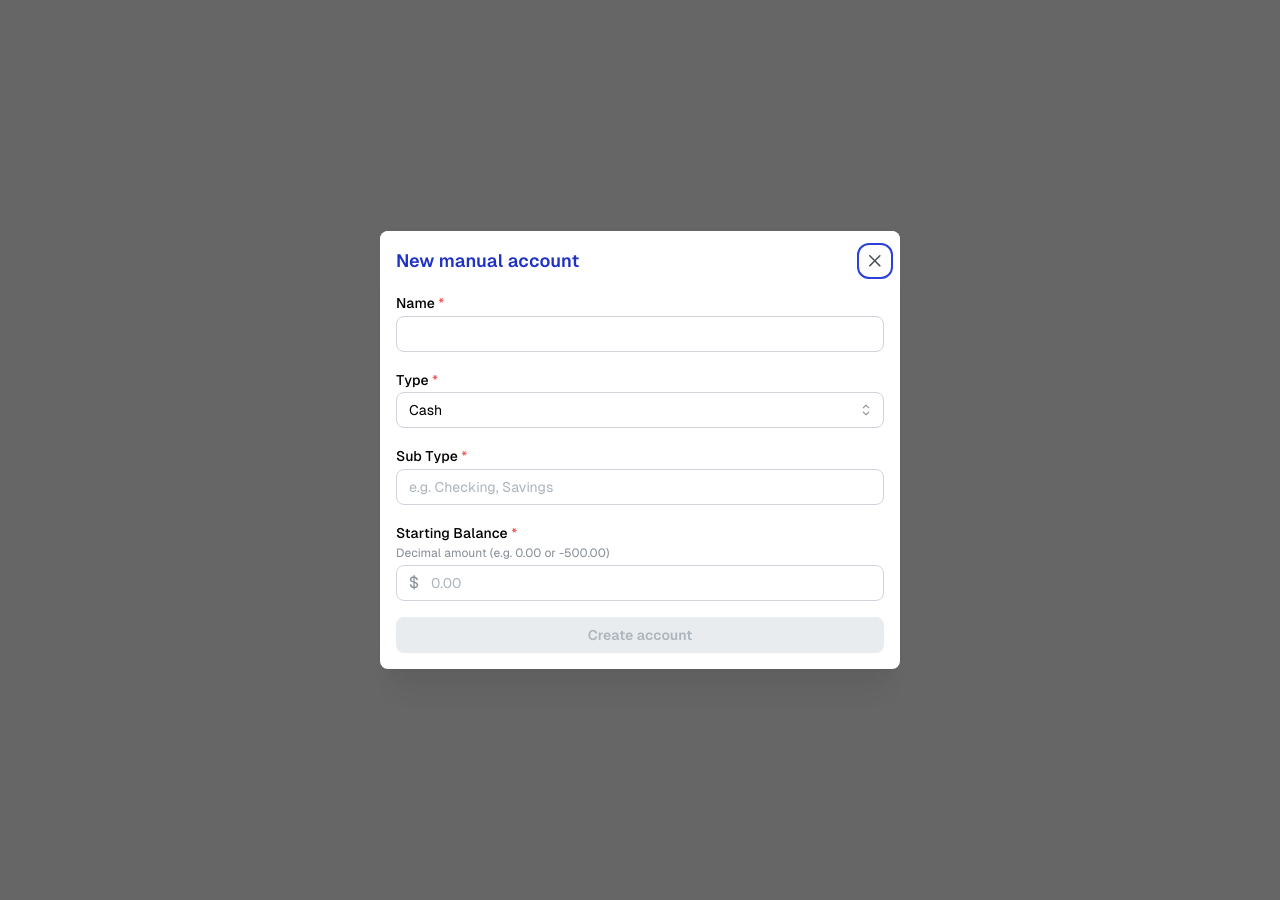
it: CreateManualAccountModal › keeps Create disabled until name, sub type, and starting balance are non-empty
This screenshot has width=1280, height=900.
Check: the button "Create account" is disabled, box [396,617,884,653]
In the field labelled "Name *": (640, 334) [396,316,884,352], type "Rainy day"
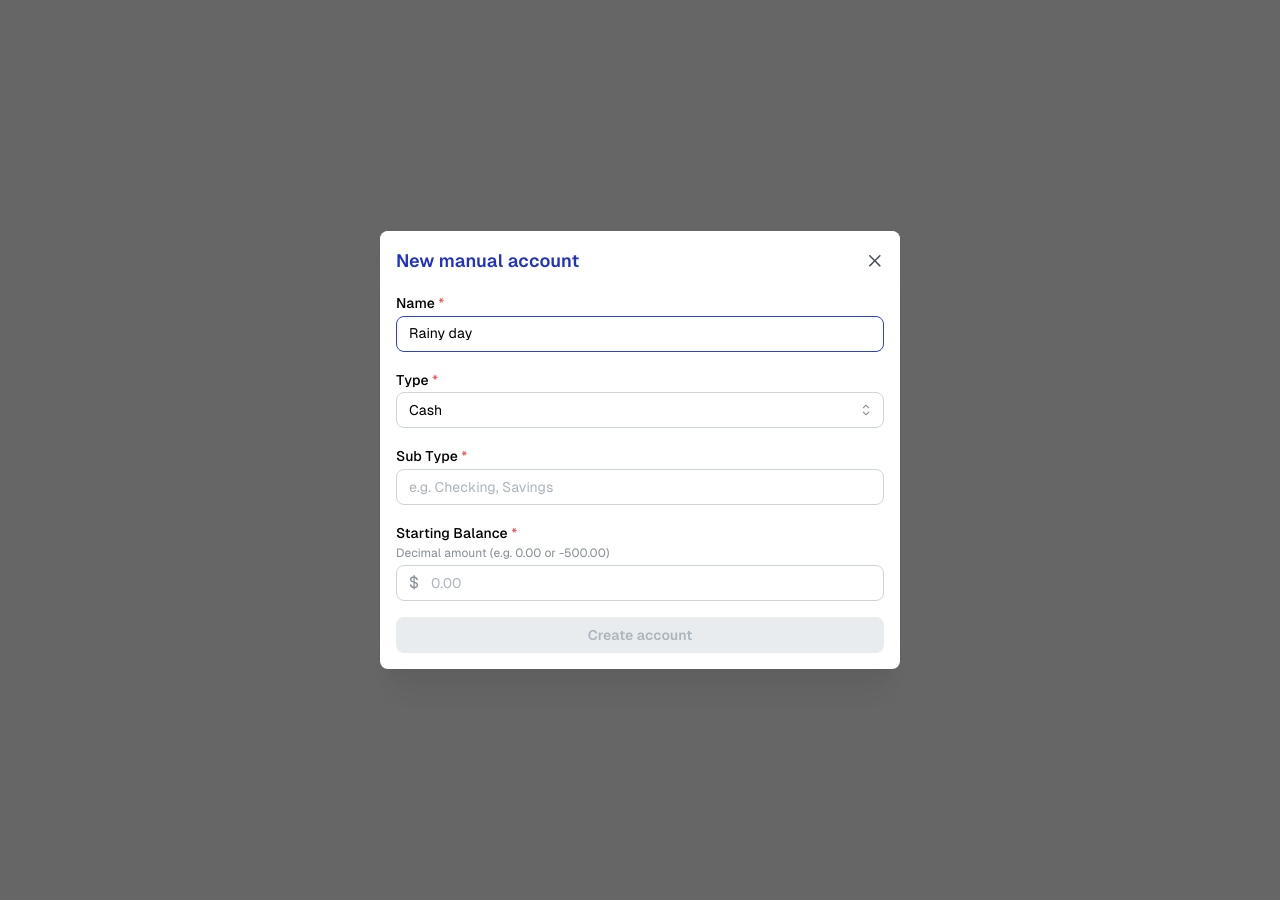
Check: the button "Create account" is disabled, box [396,617,884,653]
In the field labelled "Sub Type *": (640, 487) [396,469,884,505], type "Savings"
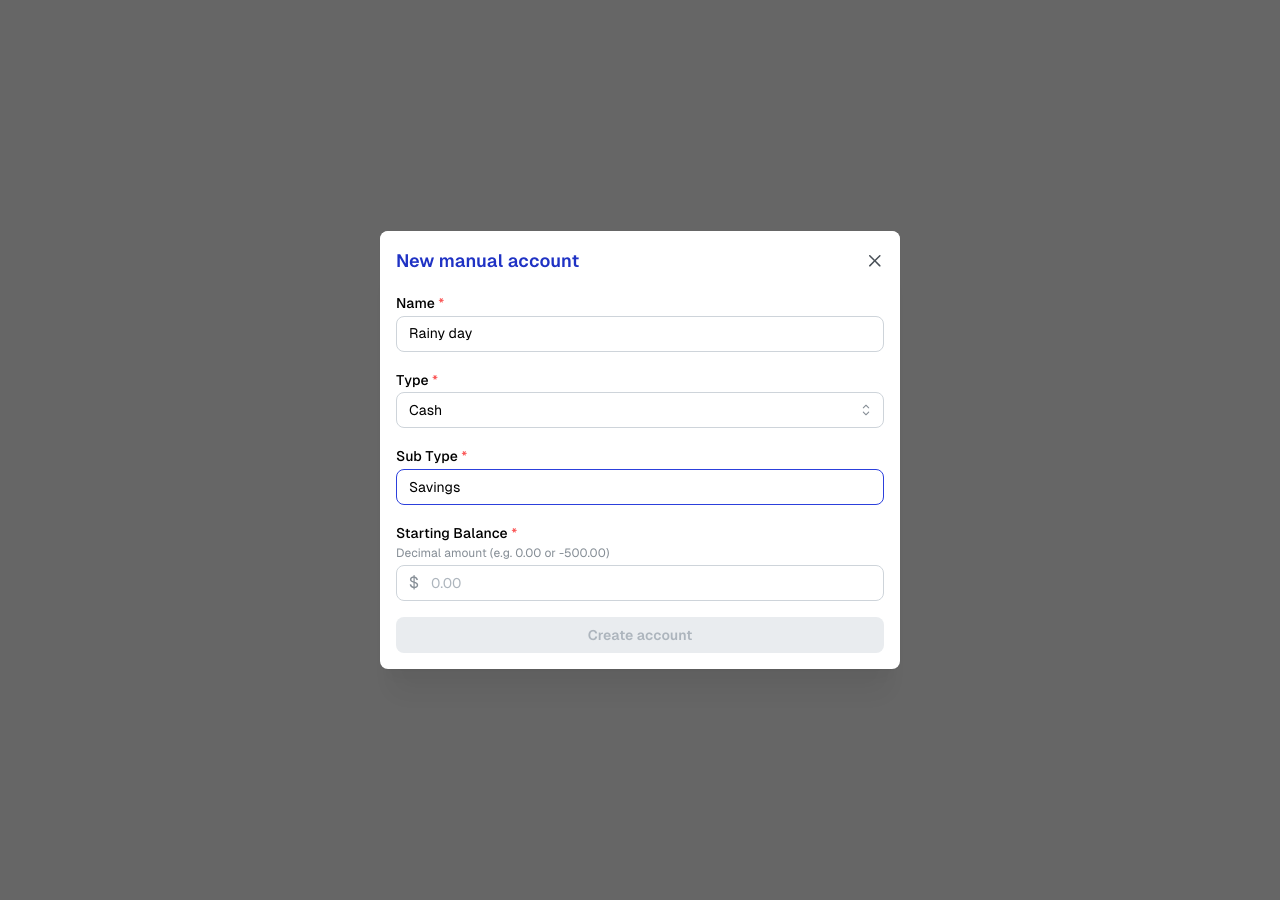
Check: the button "Create account" is disabled, box [396,617,884,653]
In the field labelled "Starting Balance *": (640, 583) [396,565,884,601], type "25"
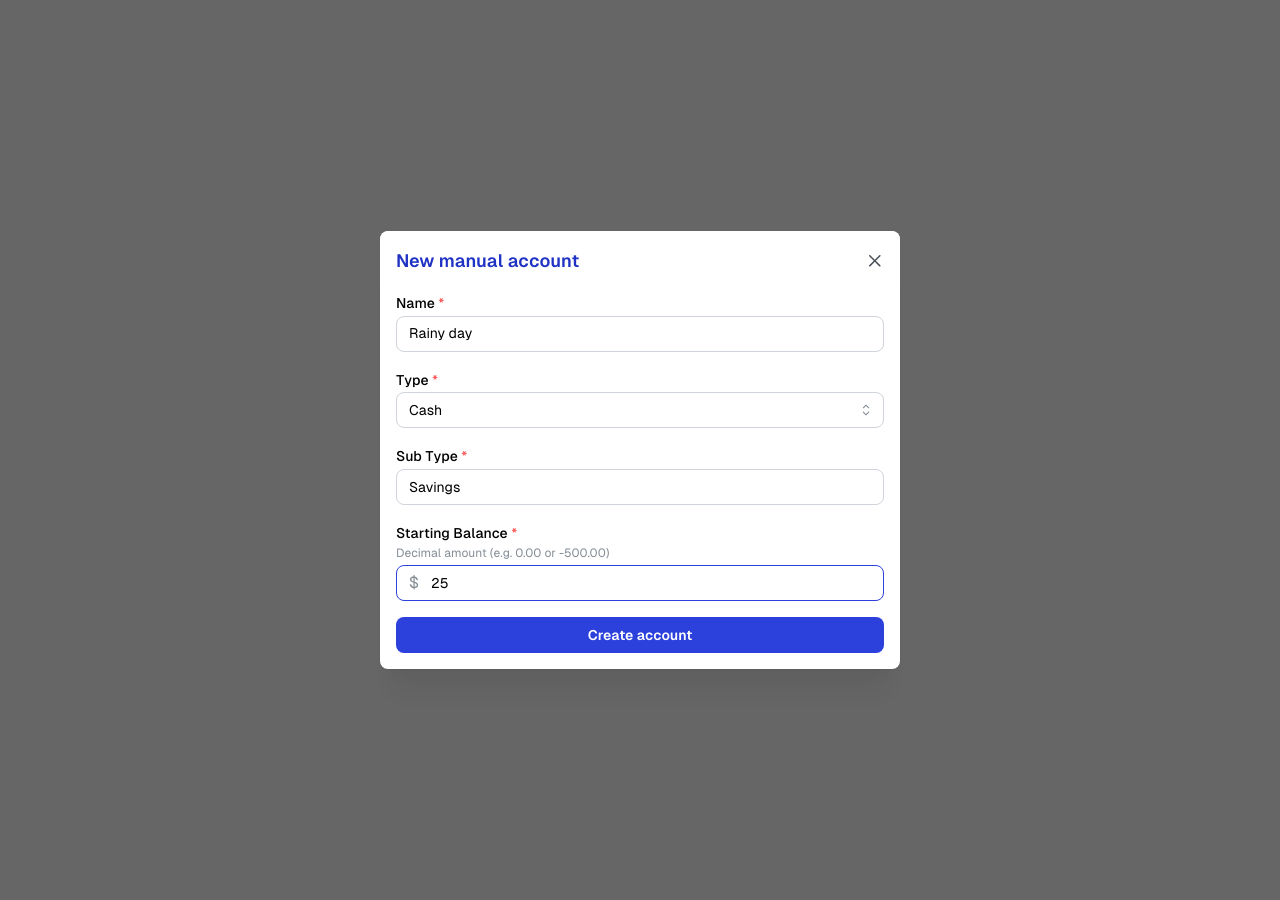
Check: the button "Create account" is enabled, box [396,617,884,653]
